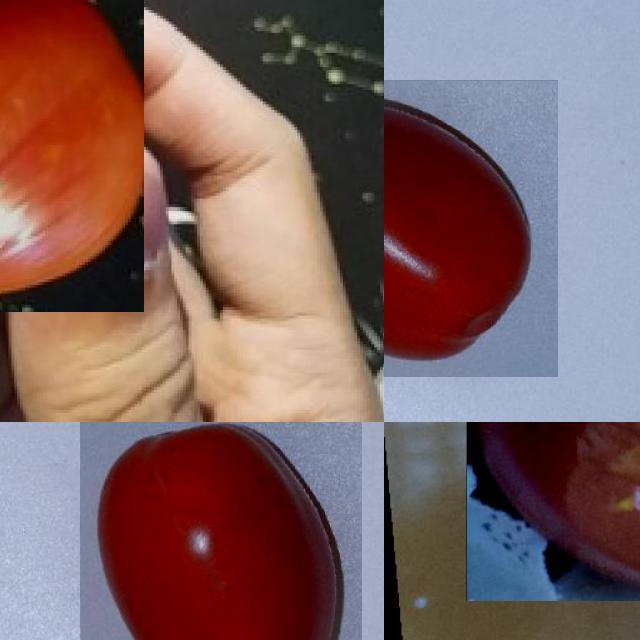Fresh Tomato: (80, 422, 361, 640), (384, 79, 558, 377)
Rotten Tomato: (0, 0, 144, 312), (466, 422, 640, 601)
